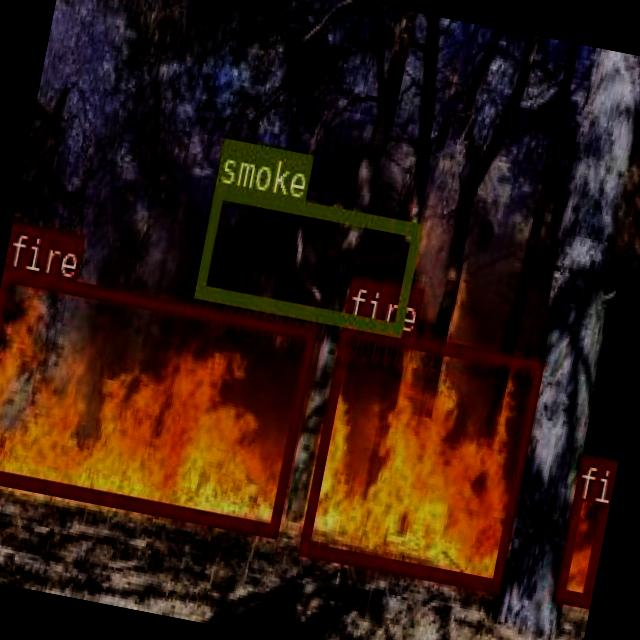fire: (0, 264, 317, 537), (297, 321, 542, 590), (554, 452, 614, 604)
smoke: (194, 182, 422, 336)
